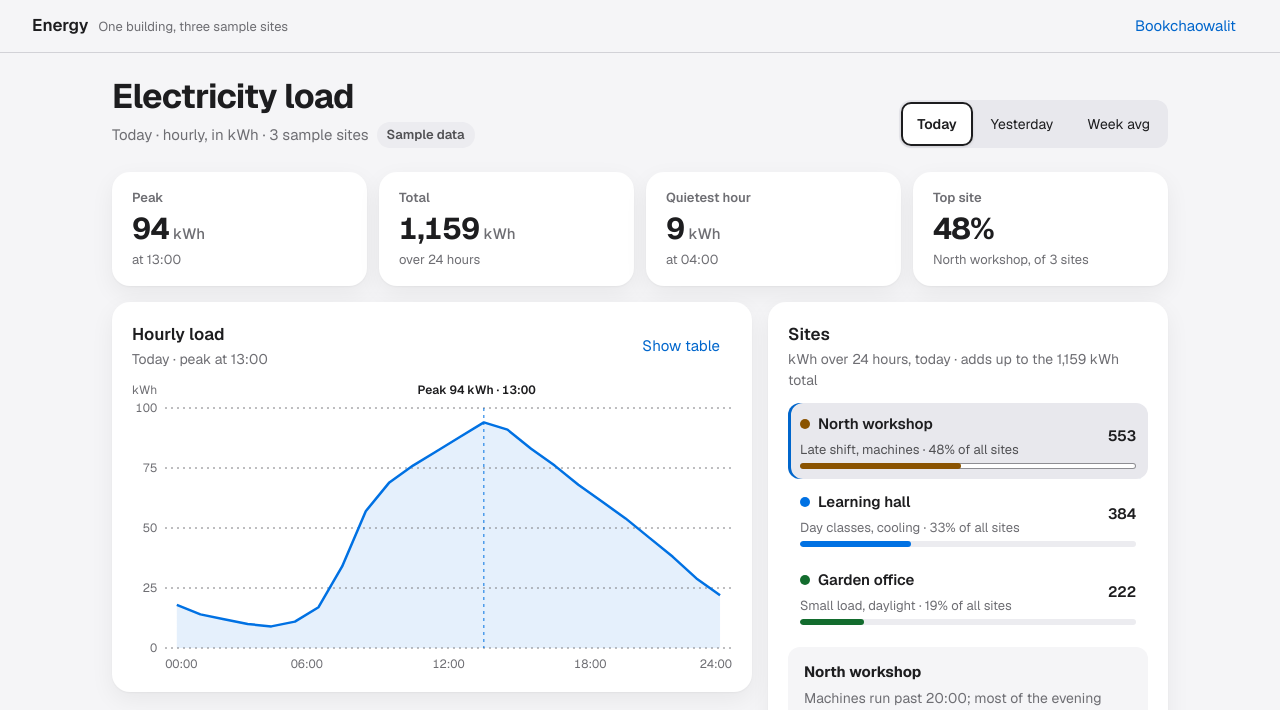
Test: energy dashboard › shows every hour as a table and back as a chart
Click the heading "Show table" at (681, 345), box [642,336,720,355]
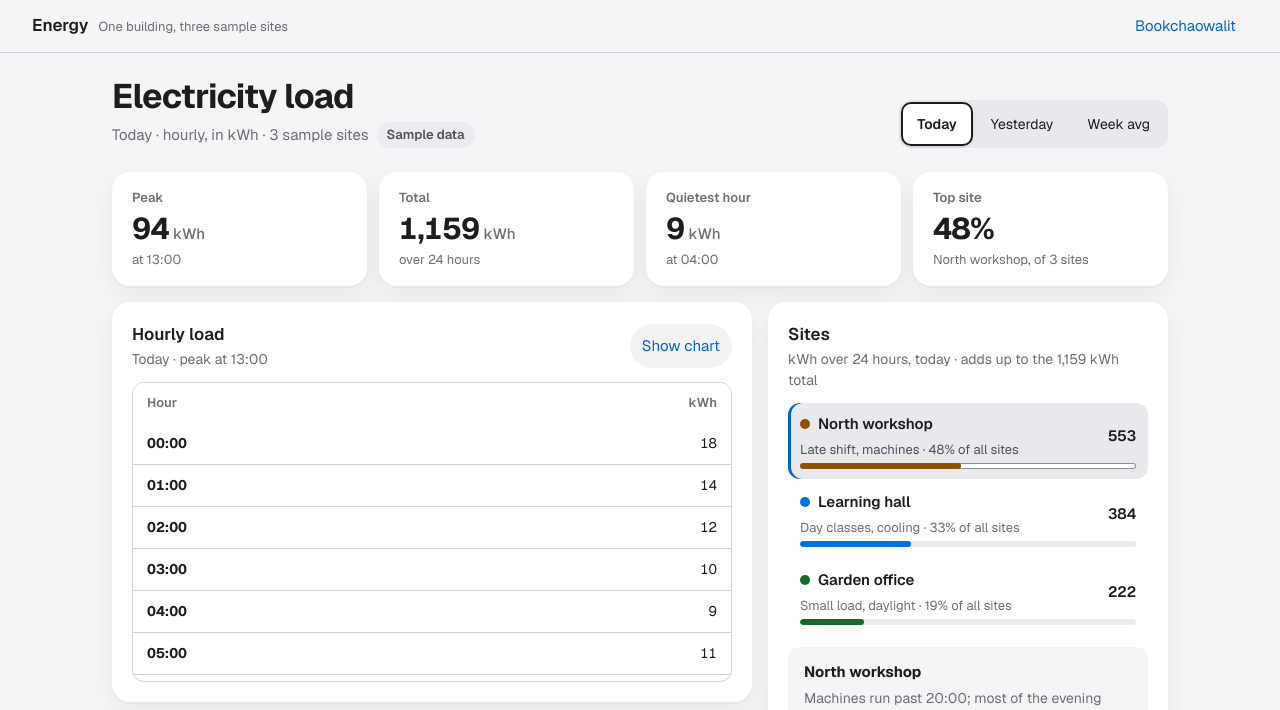
Click the heading "Show chart" at (681, 346), box [630,324,732,368]
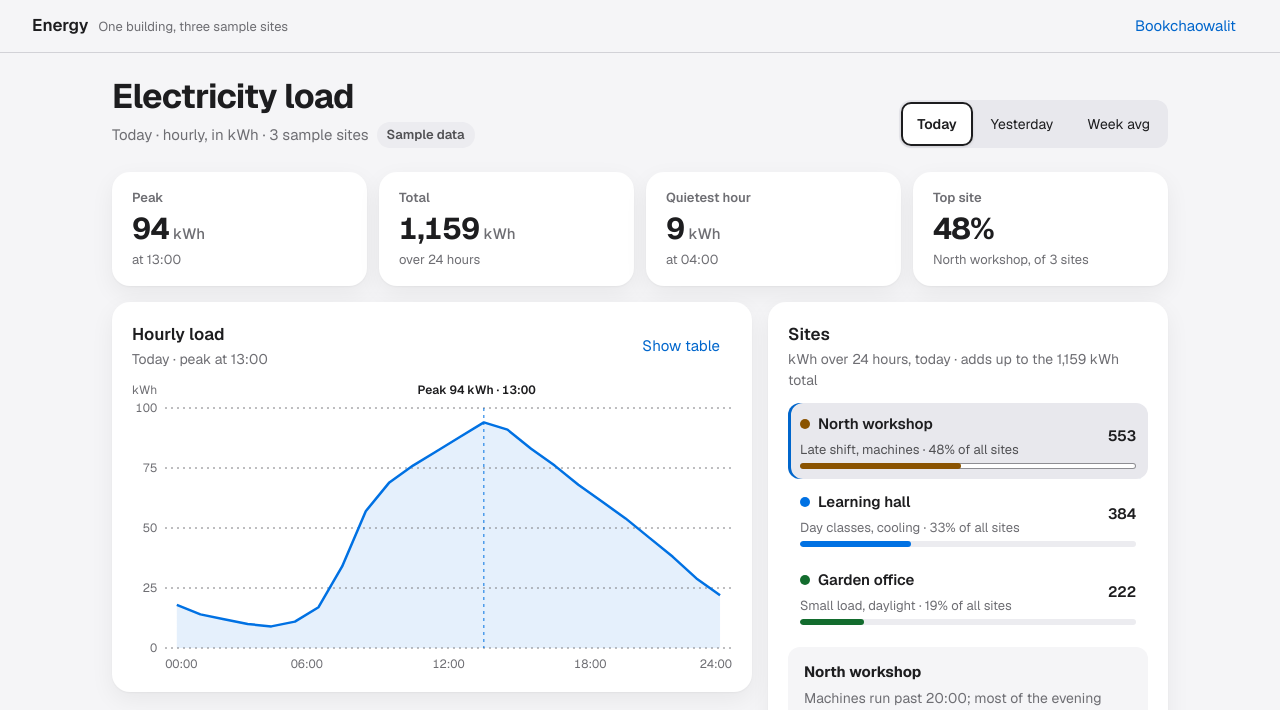
Check: the picture named "Hourly load, today: lowest 9 kWh at 04:00, peak 94 kWh at 13" is shown, box [165,408,732,648]
